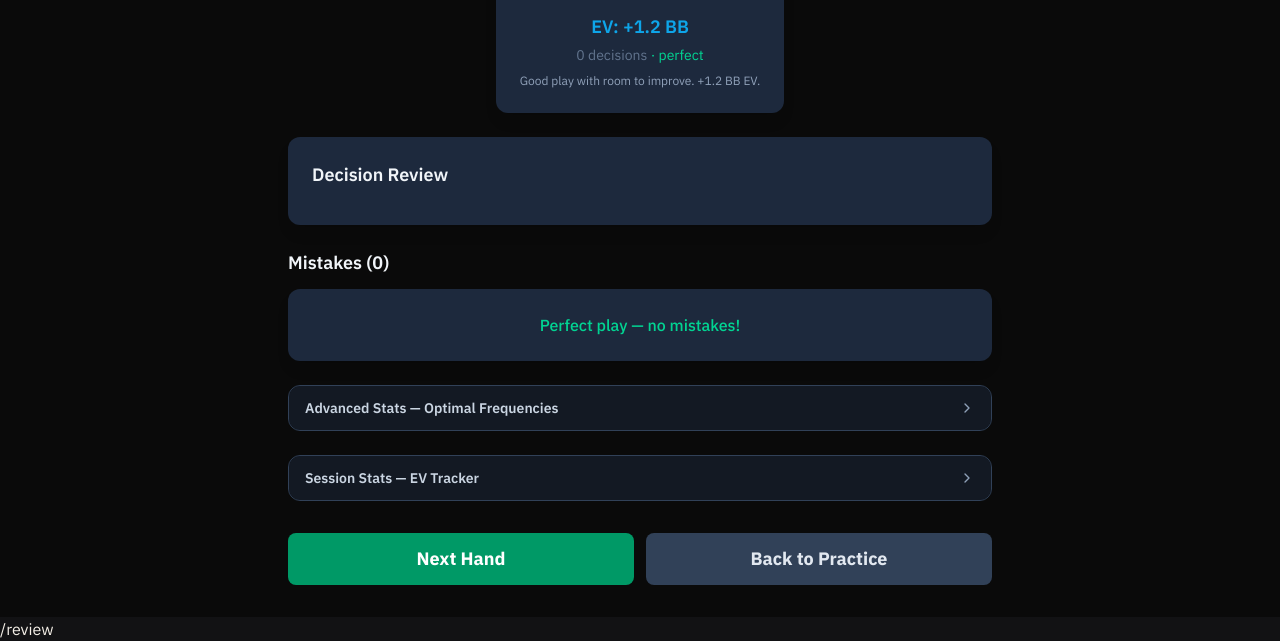
Test: App routing shell › routes Next Hand from Review back to live table
(page scrolled)
Click the button "Next Hand": (461, 559) [288,533,634,585]
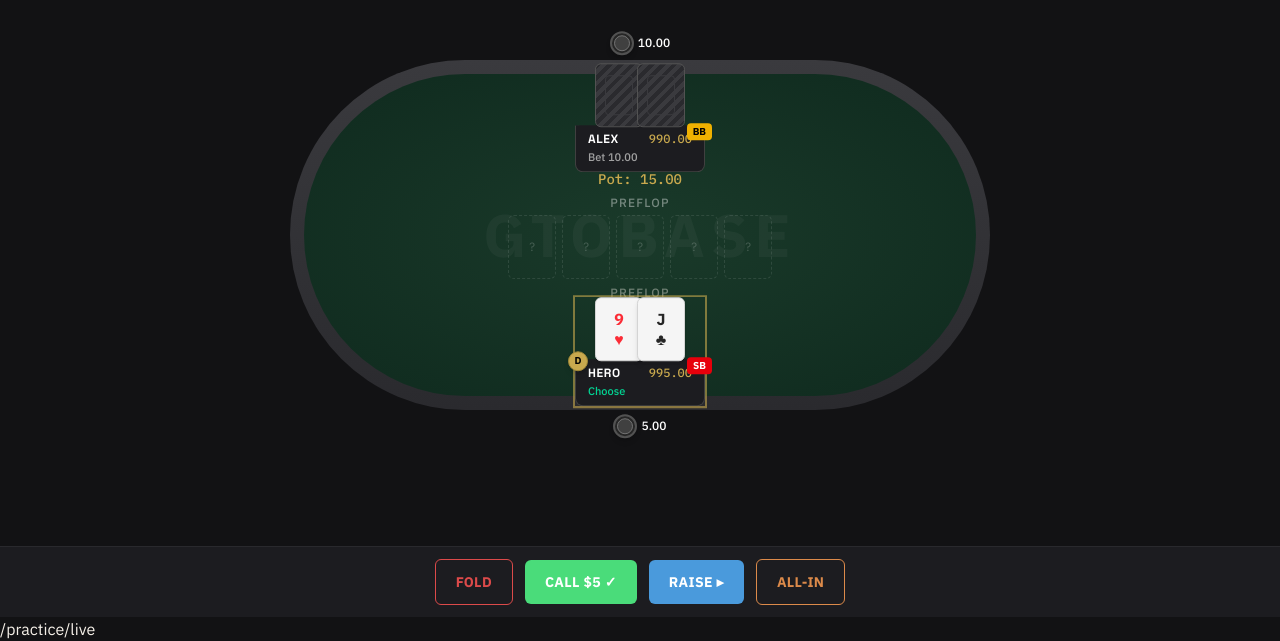
Expected: the text with test id "location-probe" reads "/practice/live", [0,619,95,639]
